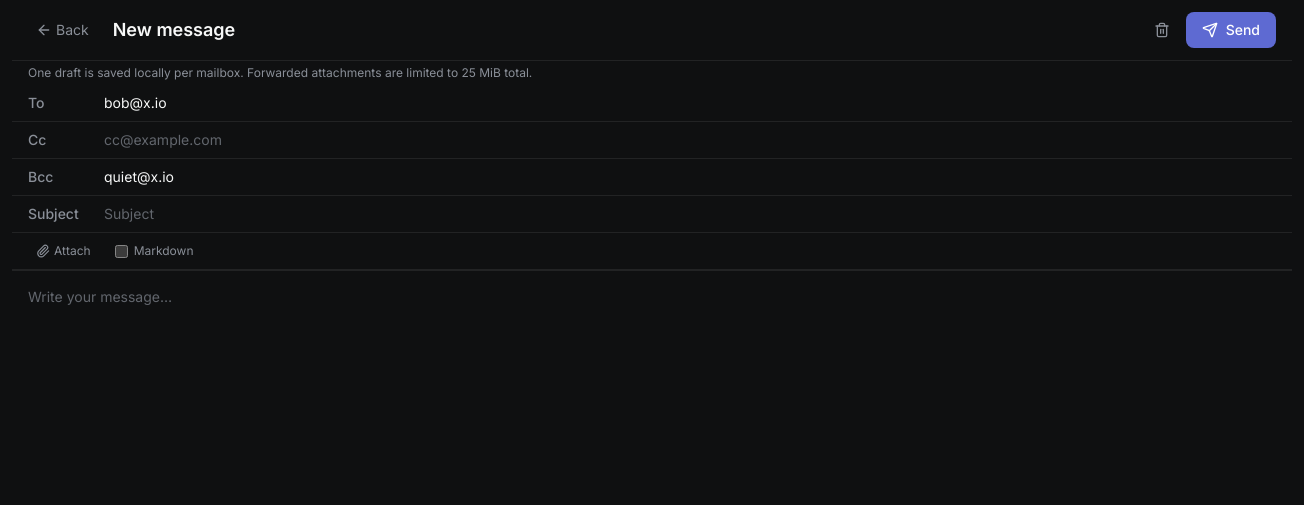
Test: sending › sends Bcc recipients and keeps them in the saved draft
Expected: the field labelled "Bcc" holds "quiet@x.io", 104,167 -> 1276,187
Click the button "Send" at (1231, 30), box 1186,12 -> 1276,48
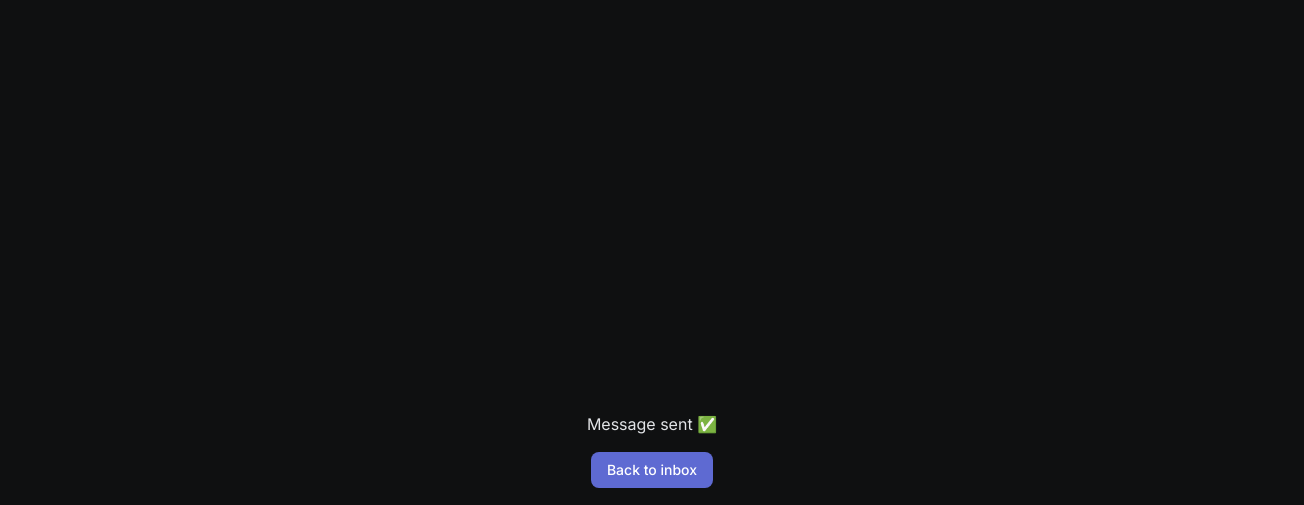
Expected: the text "Message sent ✅" is shown, 587,412 -> 717,436
